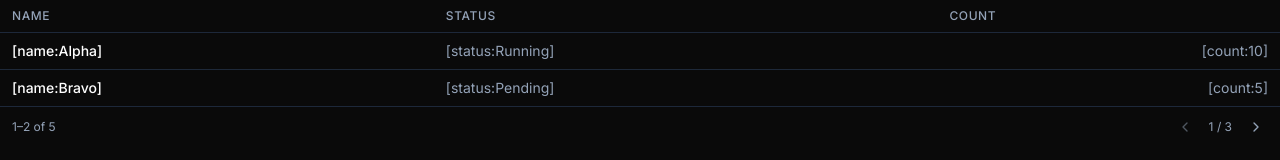
TableVisualization › pagination › navigates to previous page
Note: Go to page 2 then back to page 1
Step 1. Click the 2nd button → (1256, 127), box [1244,115,1268,139]
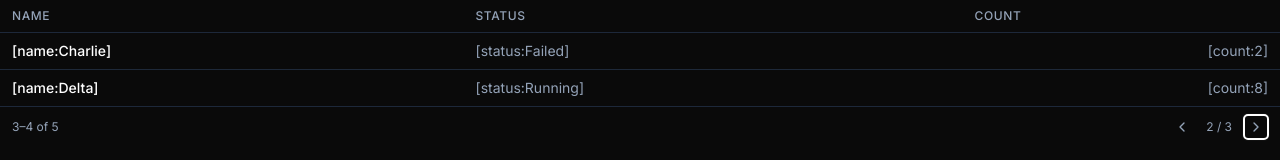
Step 2. Click the 1st button → (1182, 127), box [1170,115,1194,139]
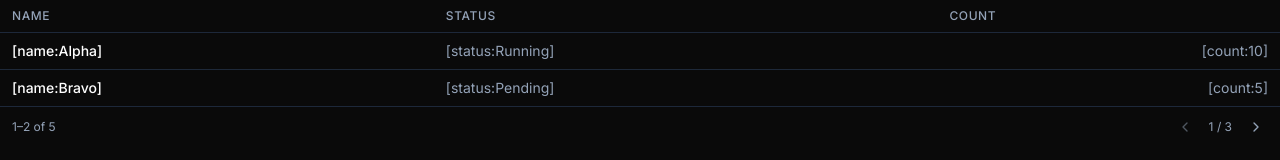
Expected: the text "[name:Alpha]" is shown, [0,32,434,70]
Result: the text "1–2 of 5" is shown at [12,119,56,135]
